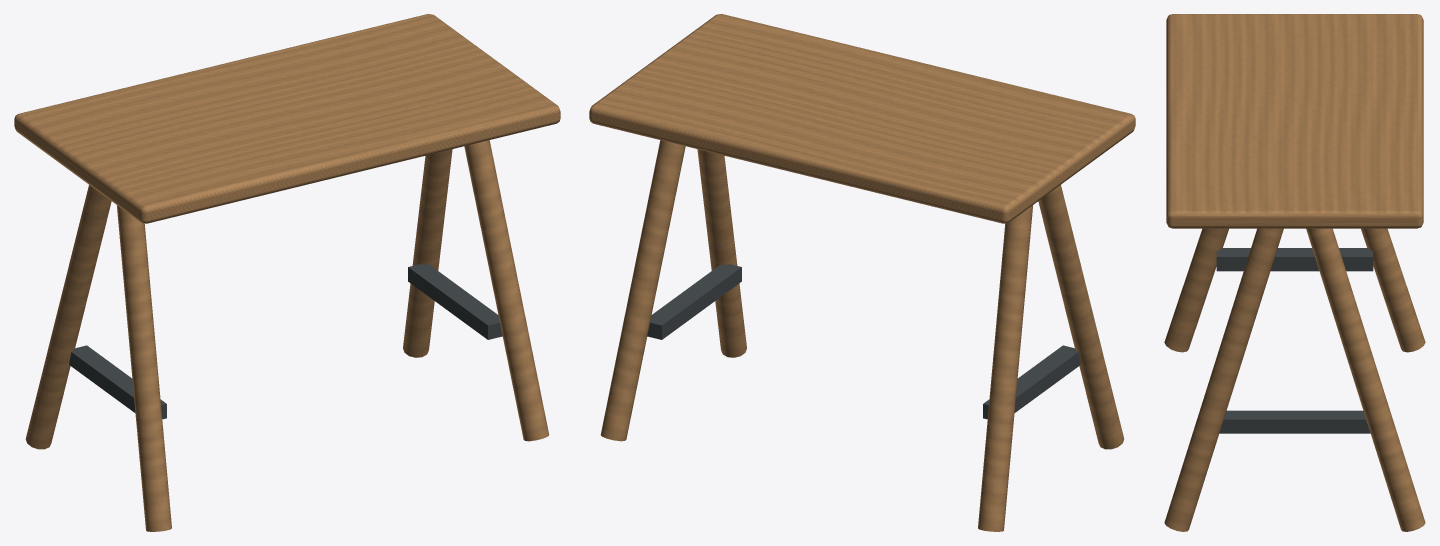
File: desk_trestle_student-5bb723f8f398.glb
3 renders of one model, left to right at view 1: azimuth 30°, elevation 25°; view 2: azimuth 150°, elevation 25°; view 3: azimuth 270°, elevation 25°, orthographic.
Visible parts, largest first — view 1: surface_oak, surface_graphite; view 2: surface_oak, surface_graphite; view 3: surface_oak, surface_graphite.
Boxes of the visible parts, x1,y1,x2,y2 form: surface_oak: [14, 14, 560, 531]; surface_graphite: [69, 264, 502, 419]; surface_oak: [589, 14, 1135, 531]; surface_graphite: [647, 264, 1080, 419]; surface_oak: [1164, 14, 1425, 531]; surface_graphite: [1216, 248, 1373, 433].
Bounding box in the file's own units: 1 × 0.7576 × 0.5486.
Materials: 2 (1 with a texture image).
